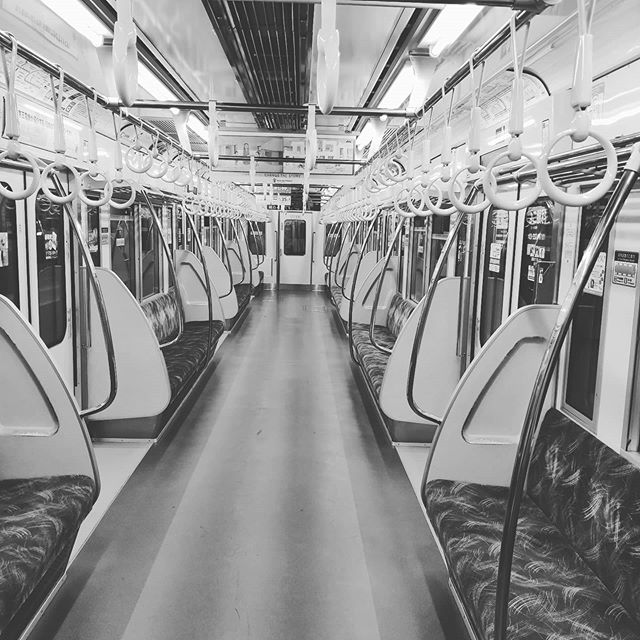bench: (419, 394, 640, 640), (119, 283, 218, 430), (345, 283, 444, 430)
